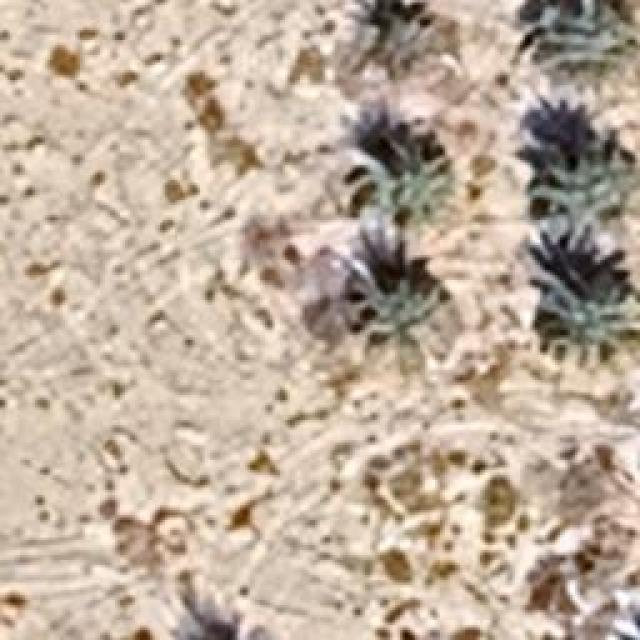PalmTree: (534, 120, 638, 262), (340, 275, 458, 380), (350, 132, 455, 218), (542, 27, 638, 115), (542, 290, 638, 365), (351, 2, 431, 78)
